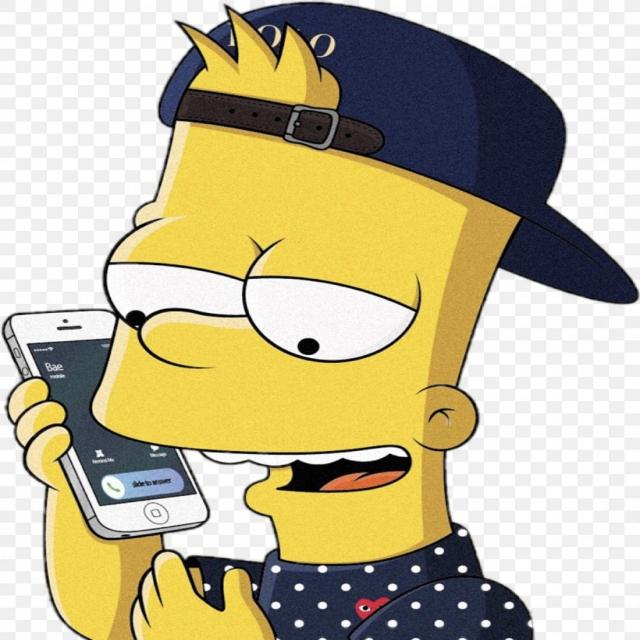Bart Simpson: (83, 0, 569, 570)
